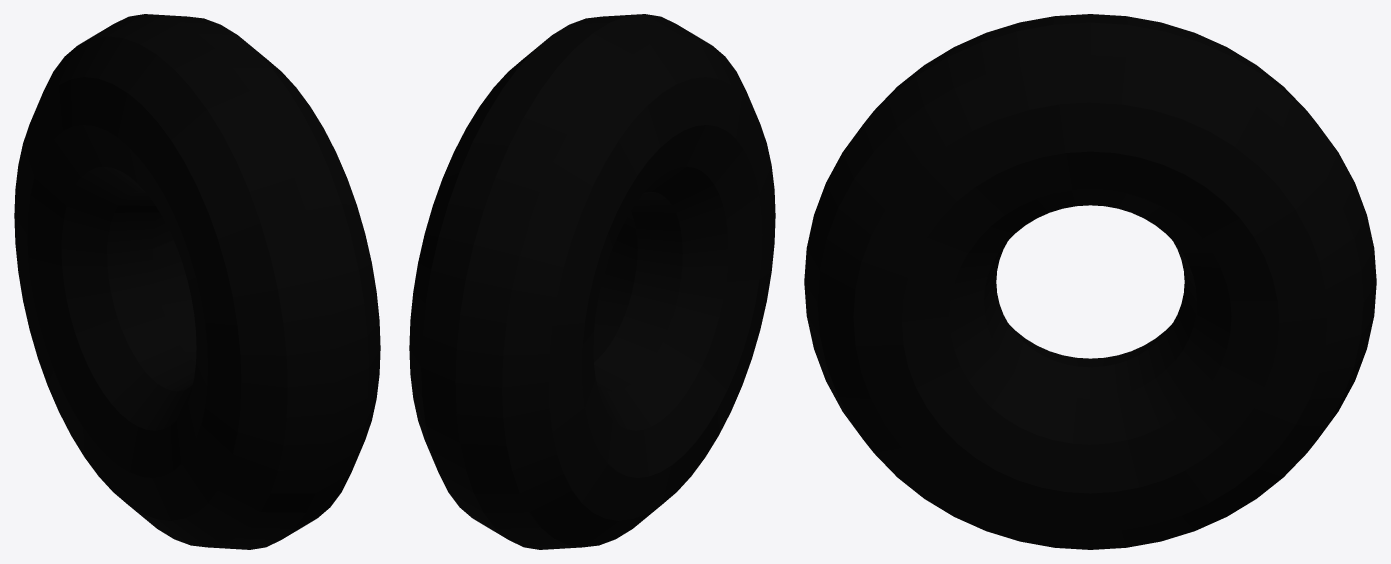
The model's file is llanta.obj.
3 renders of one model, left to right at view 1: azimuth 30°, elevation 25°; view 2: azimuth 150°, elevation 25°; view 3: azimuth 270°, elevation 25°, orthographic. The views are drawn at different scales.
Parts seen in each view (by area): view 1: Torus.002; view 2: Torus.002; view 3: Torus.002.
Boxes of the visible parts, left/top/right/bottom form: Torus.002: left=14, top=14, right=380, bottom=549; Torus.002: left=409, top=14, right=775, bottom=549; Torus.002: left=804, top=14, right=1376, bottom=549.
Bounding box in the file's own units: 20.39 × 60.76 × 60.76.
1 material, 1 textured.
